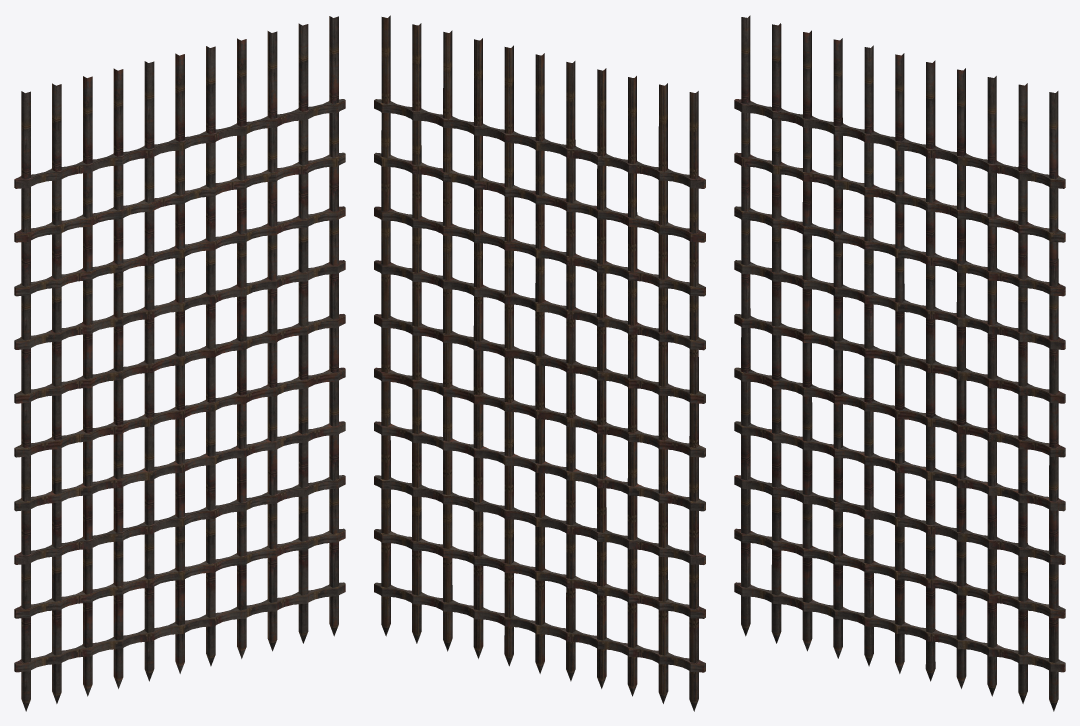
Rendered from o_mdl_env_buildingFortressGrateDoorMobile-transformed.glb.
The picture shows the model from 3 angles, left to right: view 1: azimuth 30°, elevation 25°; view 2: azimuth 150°, elevation 25°; view 3: azimuth 330°, elevation 25°; orthographic projection.
Visible parts, largest first — view 1: default; view 2: default; view 3: default.
Part boxes in pixels (x1=…): default: x1=14, y1=16, x2=345, y2=711; default: x1=374, y1=15, x2=705, y2=711; default: x1=734, y1=15, x2=1065, y2=711.
Bounding box in the file's own units: 3.21 × 5.78 × 0.1188.
1 material, 1 textured.
